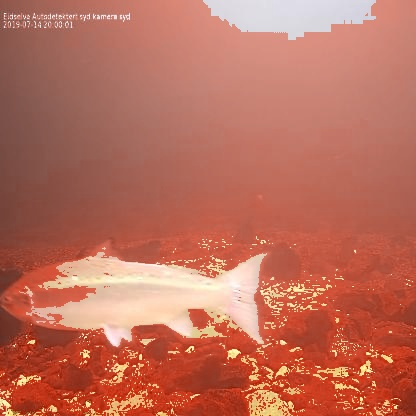salmon: (0, 235, 272, 349)
